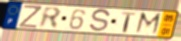6: (68, 8, 87, 31)
M: (133, 11, 164, 36)
R: (38, 6, 62, 30)
S: (88, 8, 112, 34)
T: (121, 11, 137, 34)
Z: (18, 4, 43, 29)
